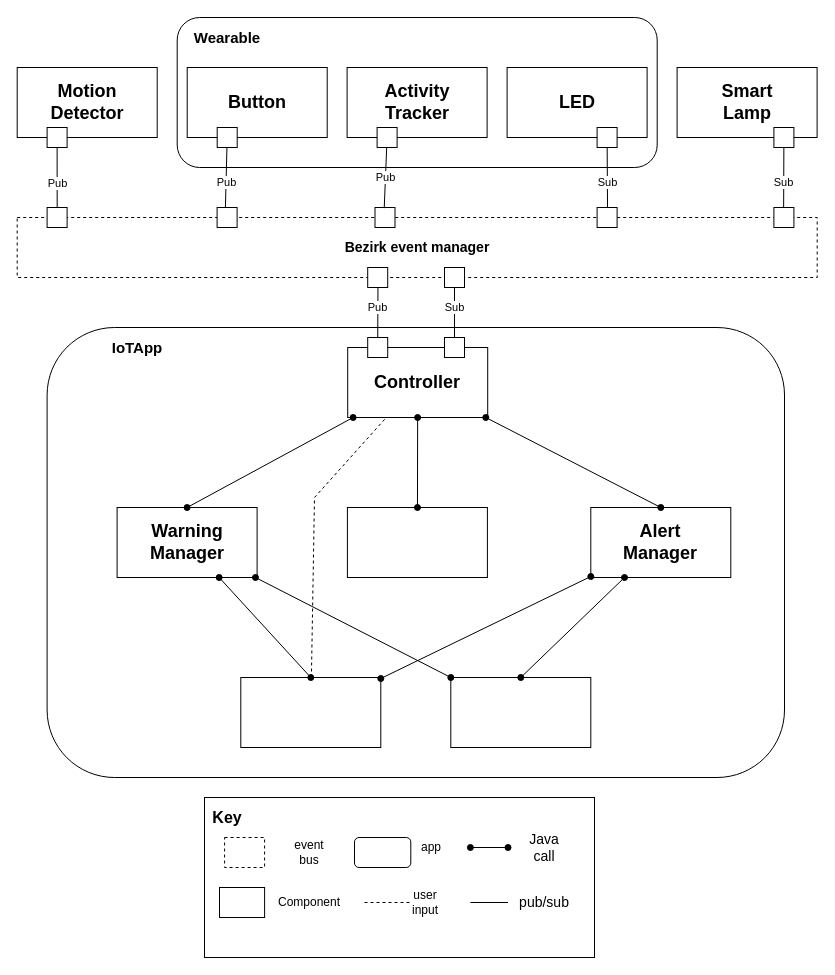
Image size: 835x975. Some labels were removed from this diagram. The centre of each missing label's shape, as x and y in pixels:
"Contact List" belongs at pixel 416 542.
"Screen" belongs at pixel 310 712.
"Synthetized Voice" belongs at pixel 520 712.
